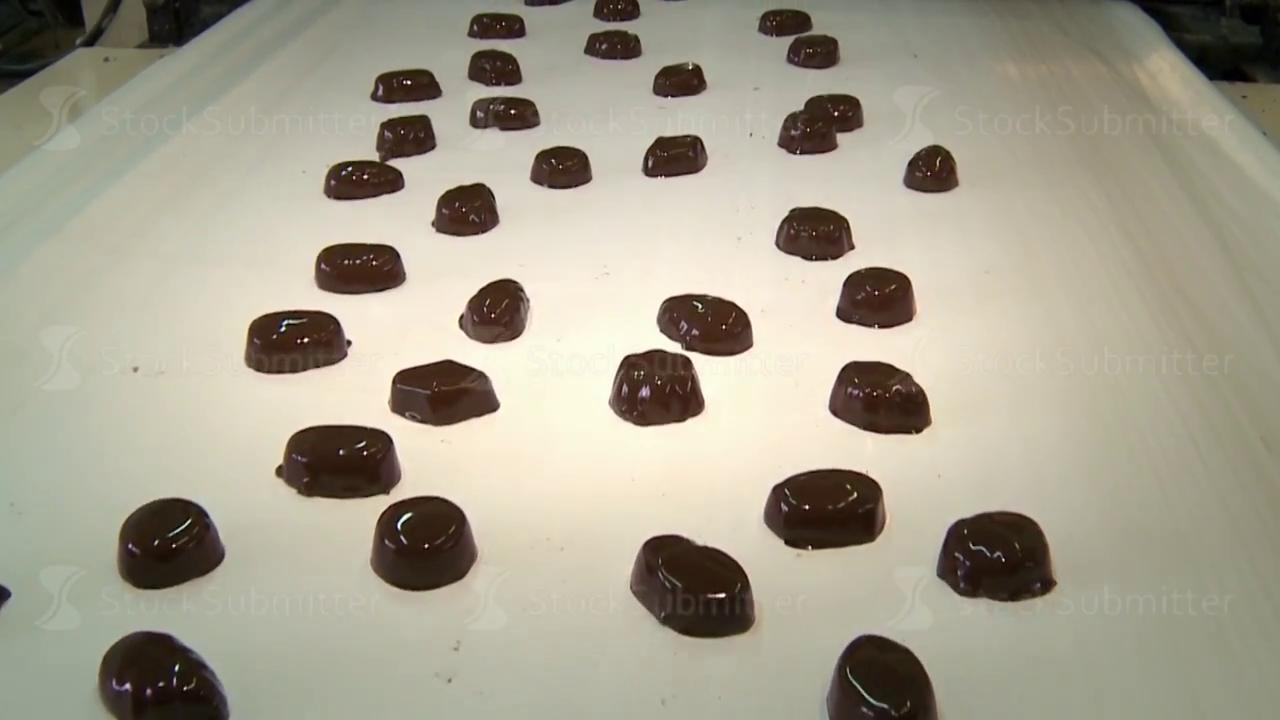chocolate: (629, 533, 755, 637), (98, 630, 229, 719), (936, 510, 1057, 602), (370, 495, 478, 590), (763, 468, 886, 550), (117, 496, 225, 589), (825, 633, 938, 719), (276, 423, 401, 499), (828, 360, 931, 435), (389, 358, 500, 426), (609, 349, 704, 426), (244, 309, 350, 374), (657, 293, 753, 355), (836, 266, 916, 328), (314, 242, 405, 294), (459, 278, 530, 343), (775, 206, 854, 261), (432, 182, 499, 236), (323, 159, 404, 199), (642, 134, 707, 177), (530, 145, 592, 189), (376, 114, 435, 160), (903, 144, 958, 192), (777, 110, 837, 154), (370, 68, 441, 103), (469, 96, 540, 130), (805, 93, 863, 131), (468, 48, 521, 86), (652, 60, 706, 97), (787, 33, 839, 68), (584, 29, 641, 60), (467, 12, 526, 39), (758, 8, 812, 37)
